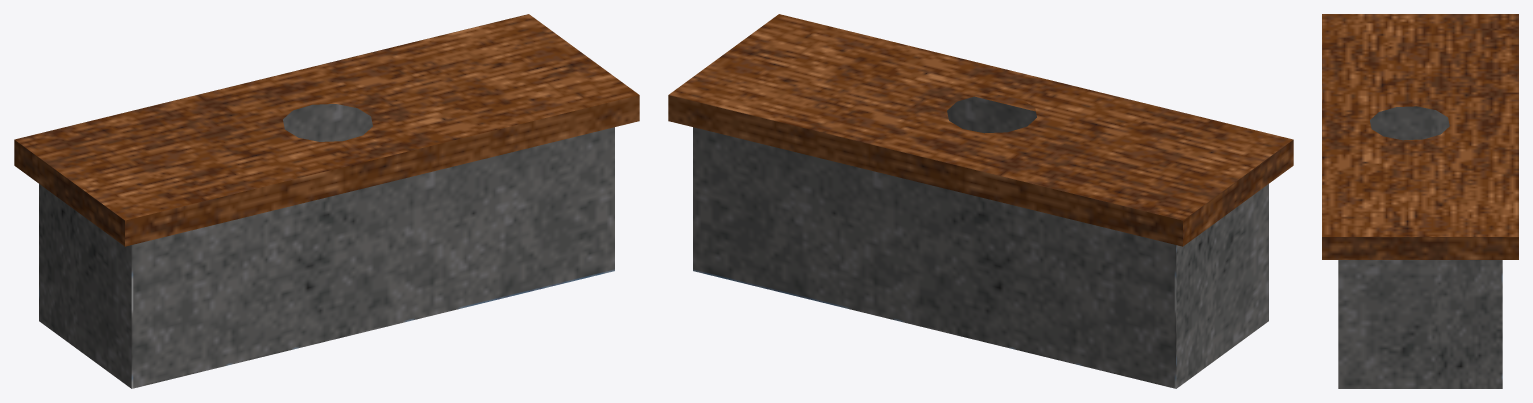
The model's file is SM_Dungeon_Toilet.fbx.
3 renders of one model, left to right at view 1: azimuth 30°, elevation 25°; view 2: azimuth 150°, elevation 25°; view 3: azimuth 270°, elevation 25°, orthographic. The views are drawn at different scales.
Parts seen in each view (by area): view 1: SM_Dungeon_Toilet; view 2: SM_Dungeon_Toilet; view 3: SM_Dungeon_Toilet.
Boxes of the visible parts, x1,y1,x2,y2 form: SM_Dungeon_Toilet: (14,14,639,388); SM_Dungeon_Toilet: (668,14,1293,388); SM_Dungeon_Toilet: (1322,14,1518,388).
Bounding box in the file's own units: 198 × 65.85 × 73.92.
